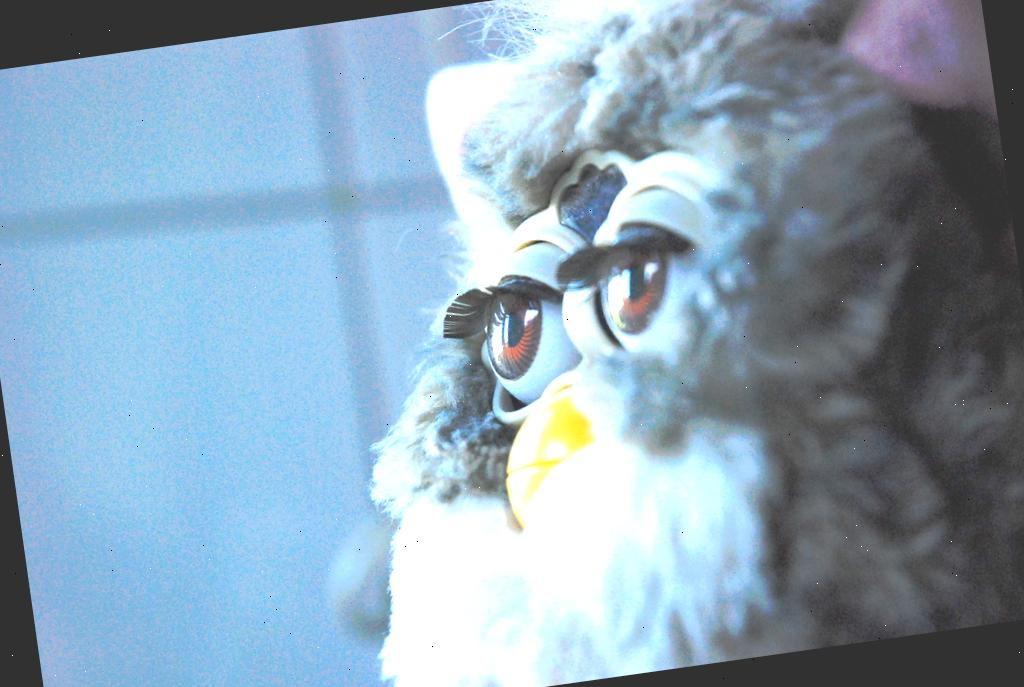Owl: (279, 0, 1024, 687)
